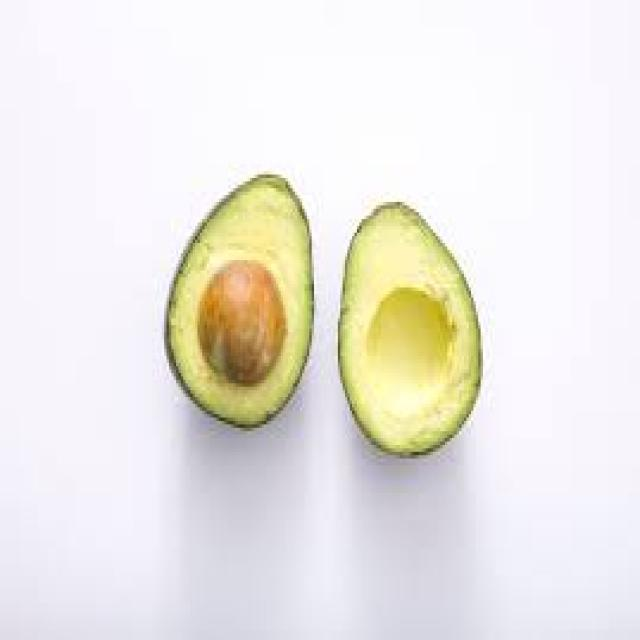avocado: (167, 128, 341, 474), (332, 171, 510, 489)
